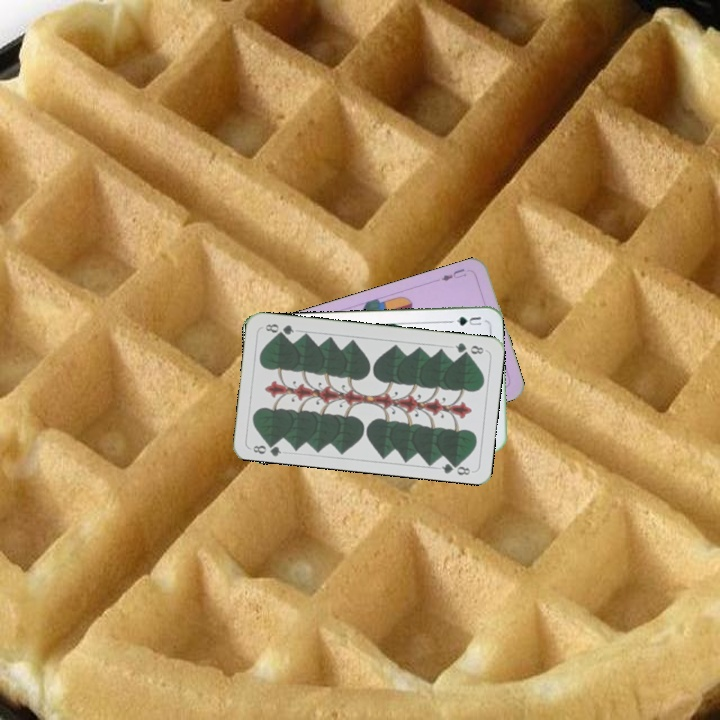EU: (437, 264, 469, 284)
G8: (249, 437, 284, 458), (451, 338, 486, 357)
GU: (446, 312, 484, 328)
